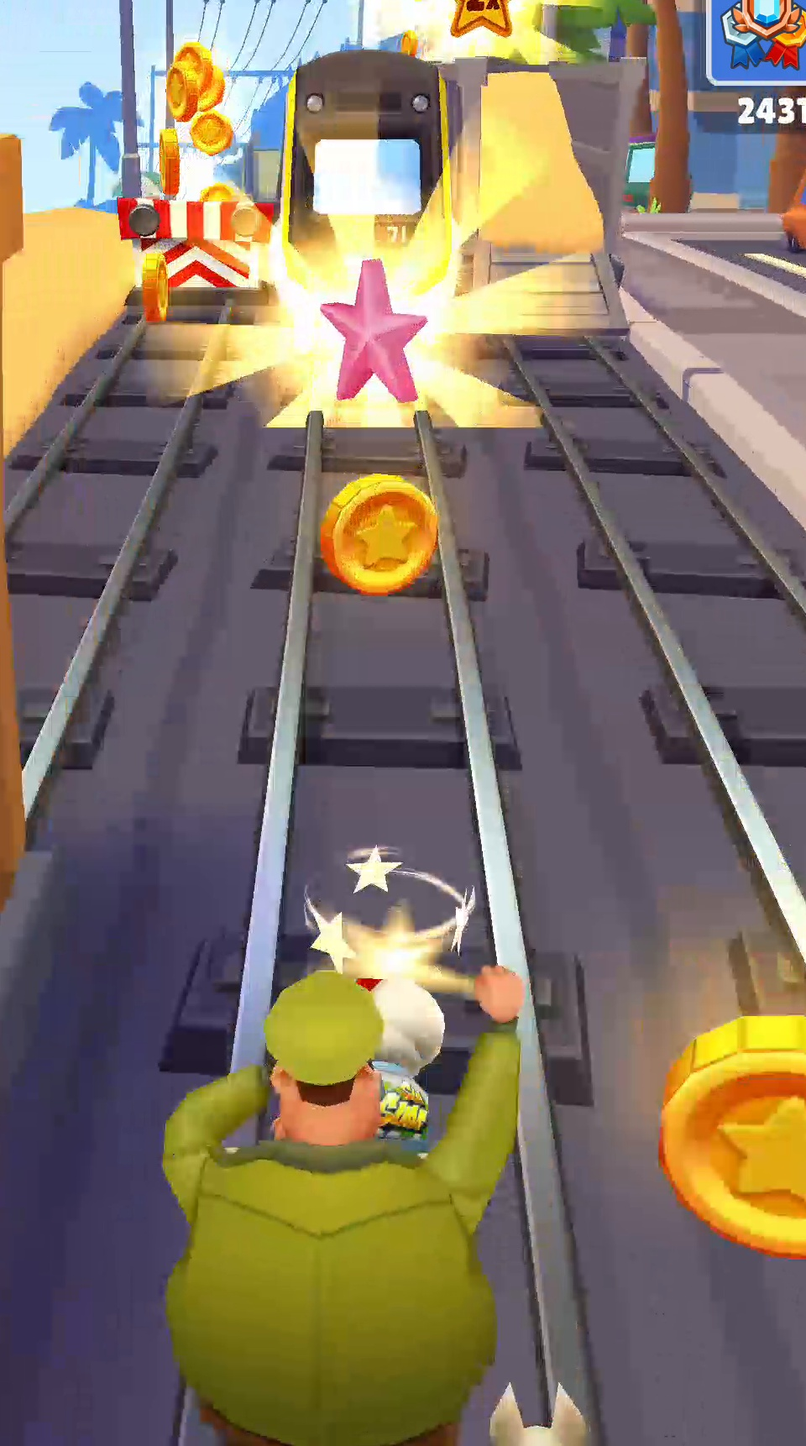climber: (441, 57, 638, 335)
police: (165, 967, 524, 1445)
roll blocker: (118, 196, 272, 291)
train: (280, 50, 451, 270), (0, 537, 25, 911), (0, 135, 23, 443)
